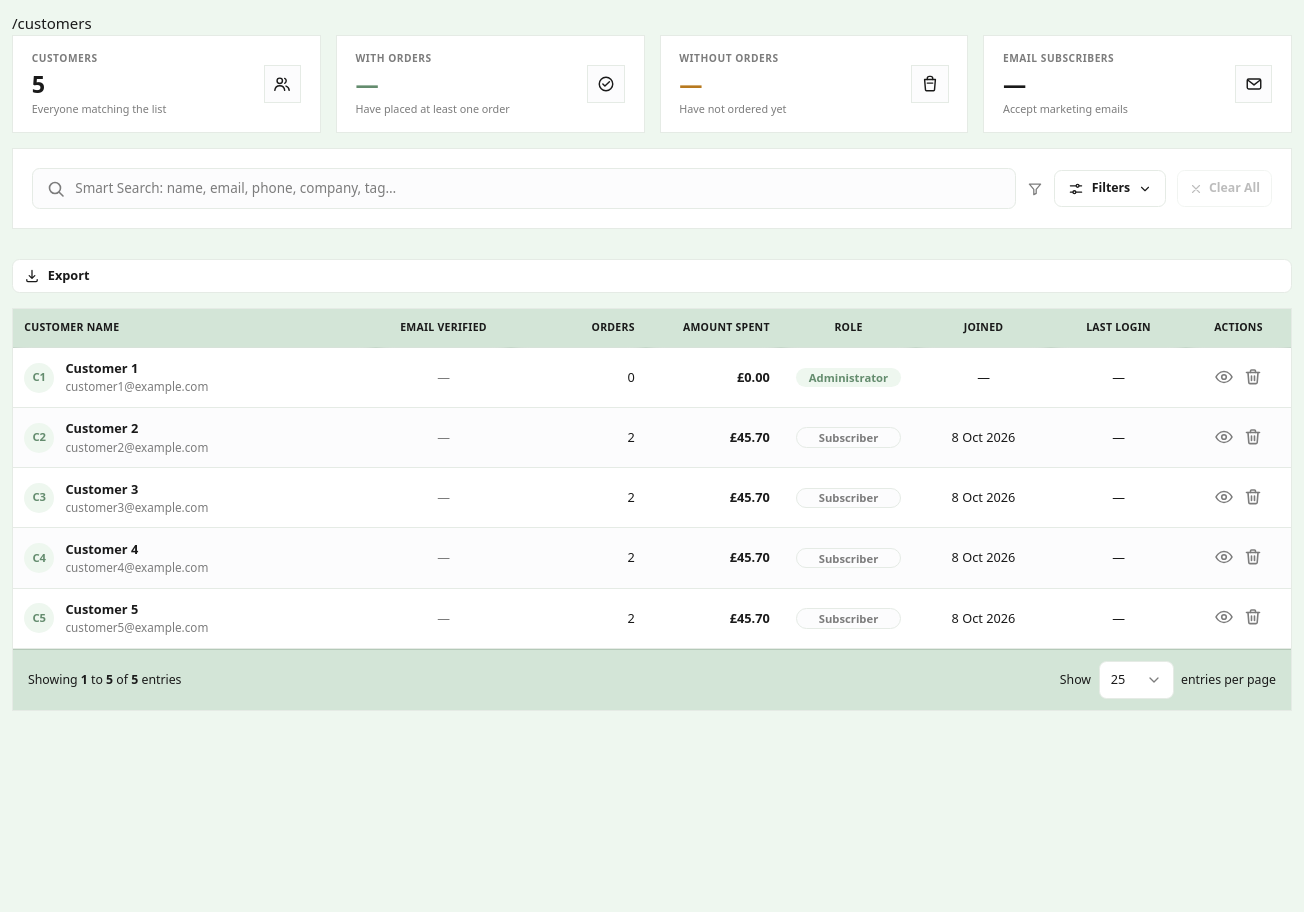
Test case: Customer details › draws the header and summary at once from the list row while details load
Expected: the text "Customer 2" is shown, [66,419,138,437]
What coordinates should you click on to do the following:
click the button named "View Customer 4"
I would click on:
 (1224, 557)
Its box is [1211,544,1238,570].
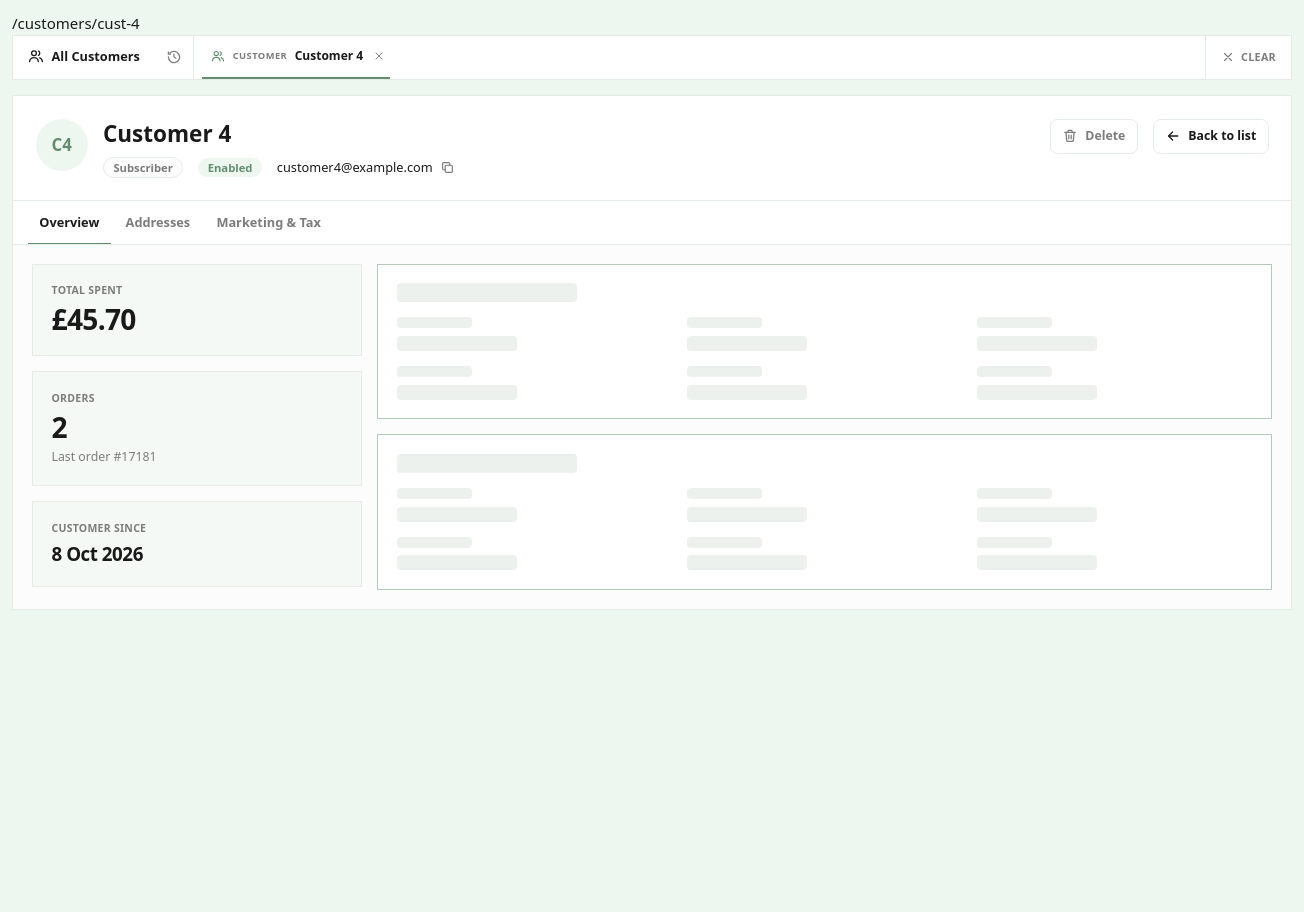
Expected: the text "customer4@example.com" is shown, [277,158,433,177]
Expected: the heading "Customer 4" is shown, [103,118,231,149]
Expected: the text "Last order #17181" is shown, [52,448,156,465]
